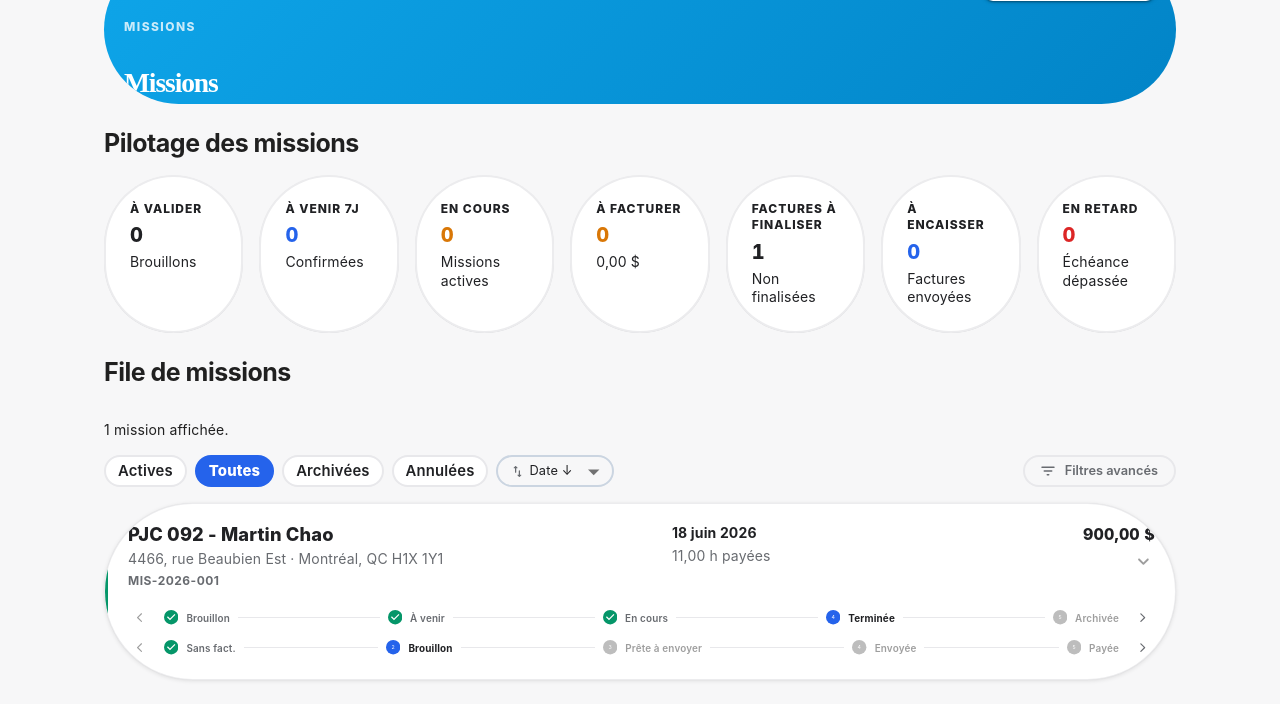
Test case: MissionsPage — À faire maintenant CTA ladder › shows invoice preview and Ouvrir en grand button for mission with draft invoice
(page scrolled)
Click the button "MIS-2026-001" at (640, 592), box [105,504,1175,679]
(page scrolled)
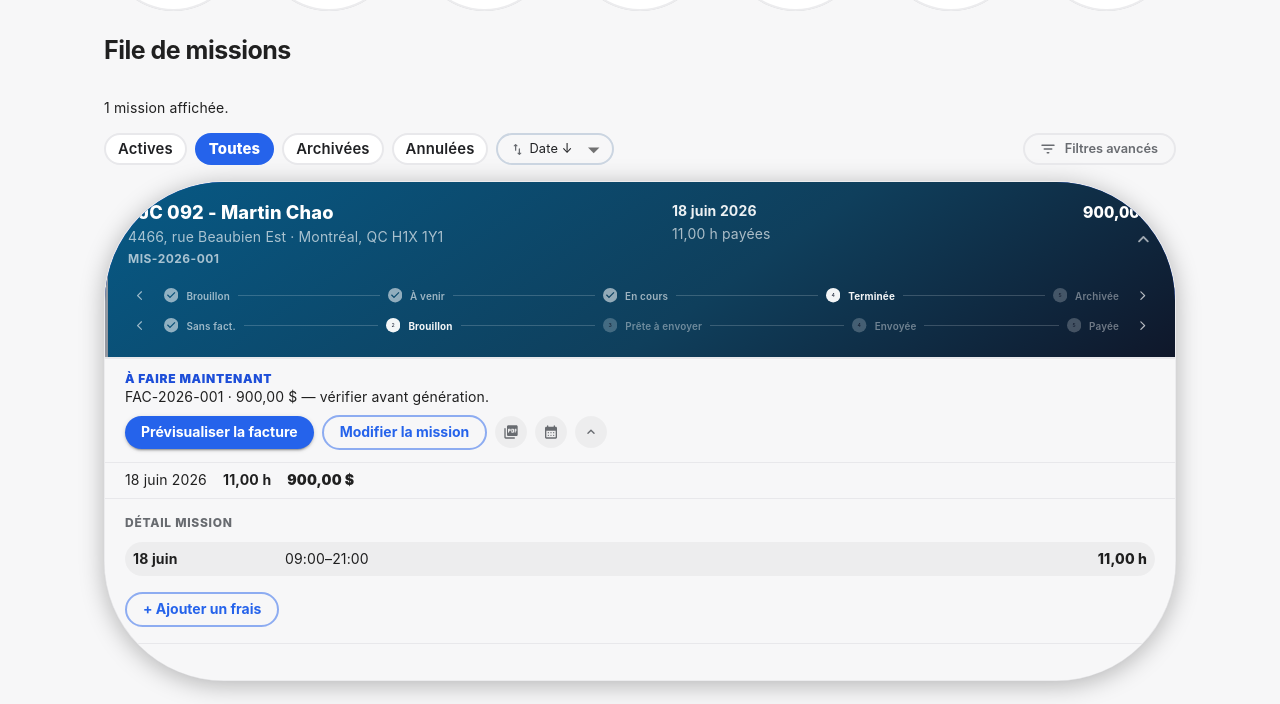
Check: the text "À faire maintenant" is shown, box [125,372,272,386]
Check: the button "Prévisualiser la facture" is shown, box [125,416,314,449]
